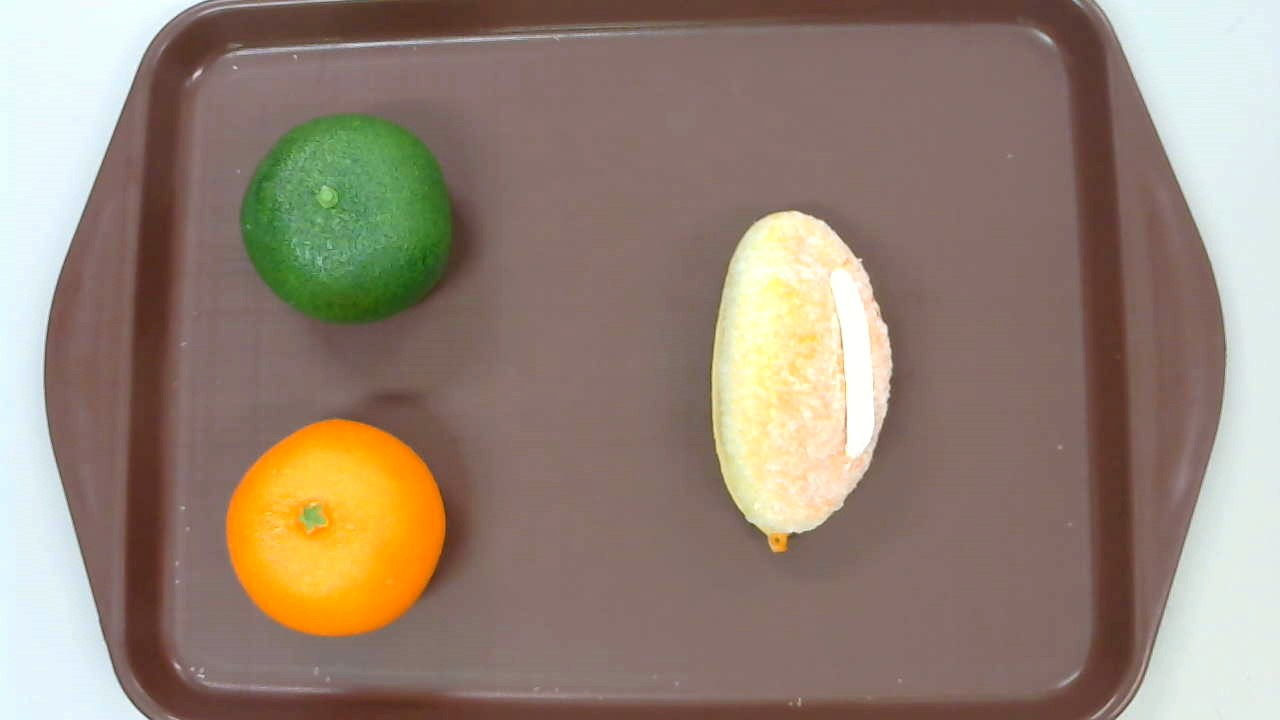coconut: (712, 209, 892, 553)
green orange: (239, 112, 453, 328)
orange: (226, 419, 447, 636)
